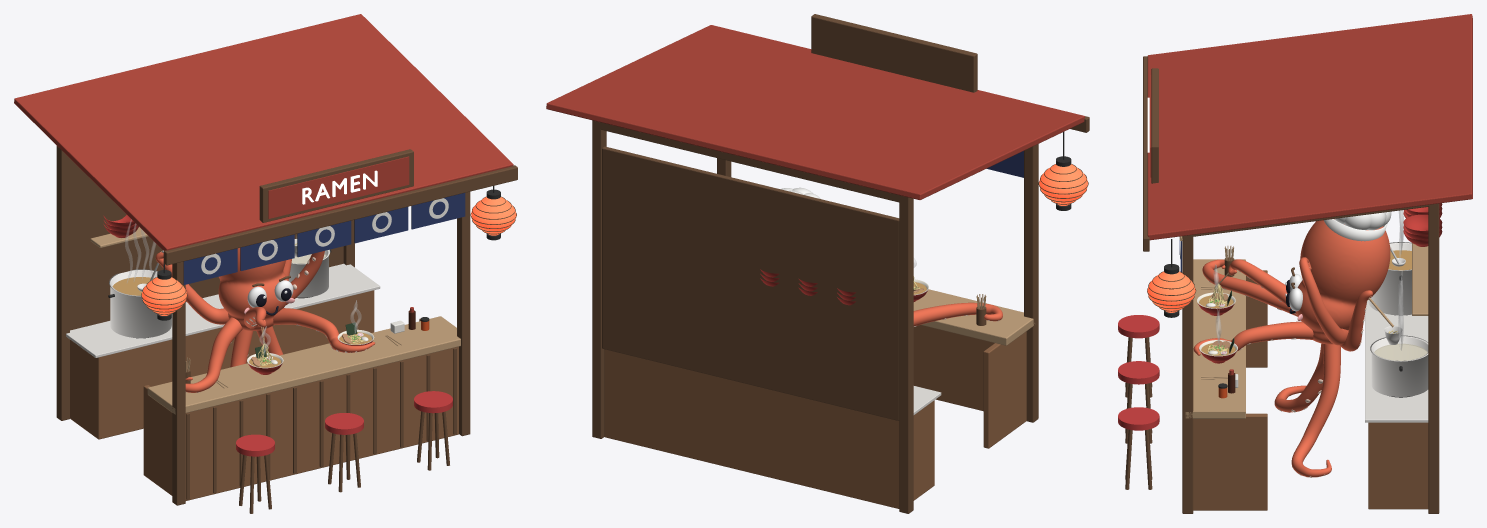
File: octopus_ramen_booth.glb
3 renders of one model, left to right at view 1: azimuth 30°, elevation 25°; view 2: azimuth 150°, elevation 25°; view 3: azimuth 270°, elevation 25°, orthographic. The views are drawn at different scales.
Parts seen in each view (by area): view 1: Roof, CounterFront, BackCounter, CounterTop, BackWall, RoofTrimF, BackCounterTop, Post-11.25, SignInner, Post1-1.0, Post-1-1.0, OctopusBody (+20 smaller); view 2: BackWall, Roof, BackCounter, SignBoard, CounterFront, Post-11.25, CounterSideL, Post-1-1.0, Post11.25, CounterTop, BeamBack, Lantern-1 (+1 smaller); view 3: Roof, CounterSideR, OctopusBody, CounterTop, BackCounter, Post11.25, BackCounterTop, Post1-1.0, PotBoil, ArmFloorR, PotStock, Lantern1 (+17 smaller).
Part boxes in pixels (x1,y1,x2,y2): Roof: (14, 14, 513, 250); CounterFront: (185, 346, 458, 500); BackCounter: (70, 290, 374, 439); CounterTop: (147, 316, 460, 414); BackWall: (70, 159, 343, 330); RoofTrimF: (164, 165, 517, 265); BackCounterTop: (66, 263, 380, 357); Post-11.25: (56, 146, 69, 420); SignInner: (268, 156, 409, 218); Post1-1.0: (457, 191, 470, 436); Post-1-1.0: (172, 261, 185, 505); OctopusBody: (218, 248, 288, 330); BackWall: (602, 146, 899, 420); Roof: (546, 25, 1084, 199); BackCounter: (604, 349, 934, 508); SignBoard: (811, 14, 977, 92); CounterFront: (913, 325, 994, 411); Post-11.25: (899, 195, 913, 513); CounterSideL: (983, 331, 1026, 448); Post-1-1.0: (1024, 144, 1038, 422); Post11.25: (592, 121, 606, 438); CounterTop: (913, 289, 1034, 345); BeamBack: (592, 120, 913, 204); Lantern-1: (1039, 164, 1087, 205); Roof: (1147, 14, 1472, 240); CounterSideR: (1193, 413, 1267, 510); OctopusBody: (1296, 219, 1390, 344); CounterTop: (1185, 259, 1245, 418); BackCounter: (1368, 422, 1428, 509); Post11.25: (1428, 203, 1439, 513); BackCounterTop: (1365, 300, 1428, 422); Post1-1.0: (1182, 235, 1193, 513); PotBoil: (1370, 335, 1428, 396); ArmFloorR: (1291, 344, 1340, 477); PotStock: (1368, 242, 1411, 315); Lantern1: (1147, 271, 1195, 312).
Size of what is drawn, in the model's own units: 4.15 by 3.38 by 3.25.
